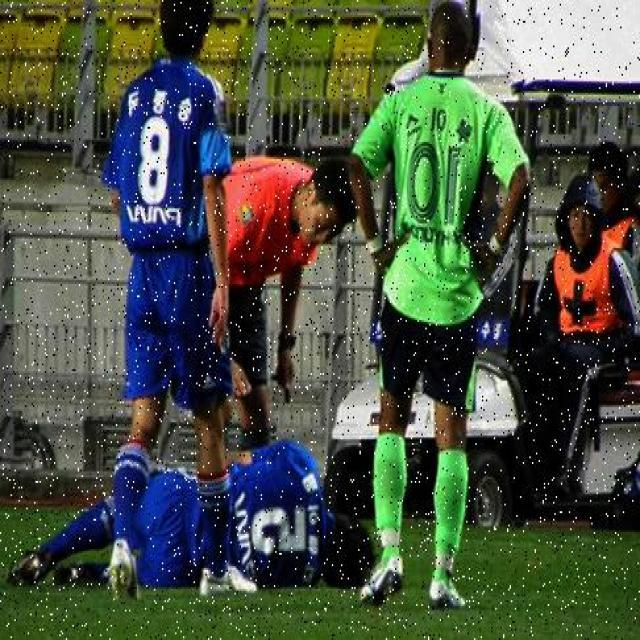fall: (17, 435, 368, 606)
